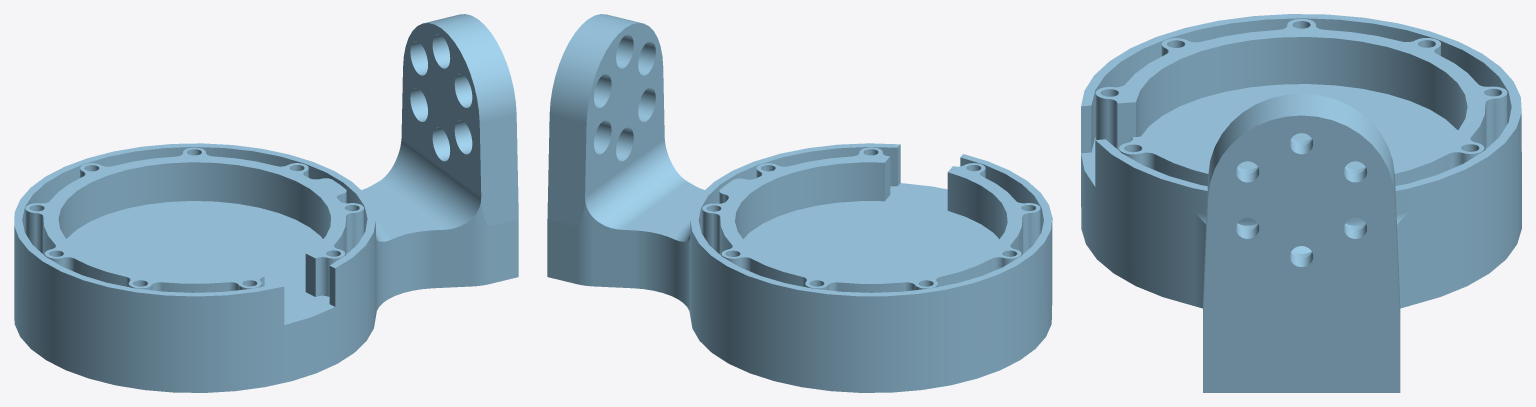
File: Joint1.dae
3 renders of one model, left to right at view 1: azimuth 30°, elevation 25°; view 2: azimuth 150°, elevation 25°; view 3: azimuth 270°, elevation 25°, orthographic. The views are drawn at different scales.
Visible parts, largest first — view 1: ID2; view 2: ID2; view 3: ID2.
Boxes of the visible parts, x1,y1,x2,y2 form: ID2: (14,14,518,392); ID2: (547,14,1052,392); ID2: (1081,14,1521,392).
Size of the model in its own units: 0.1192 by 0.085 by 0.059.
